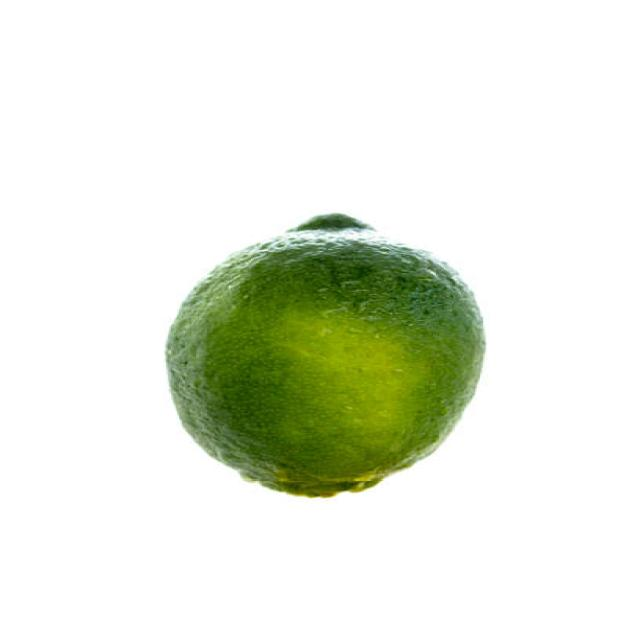Unripe: (163, 210, 489, 500)
